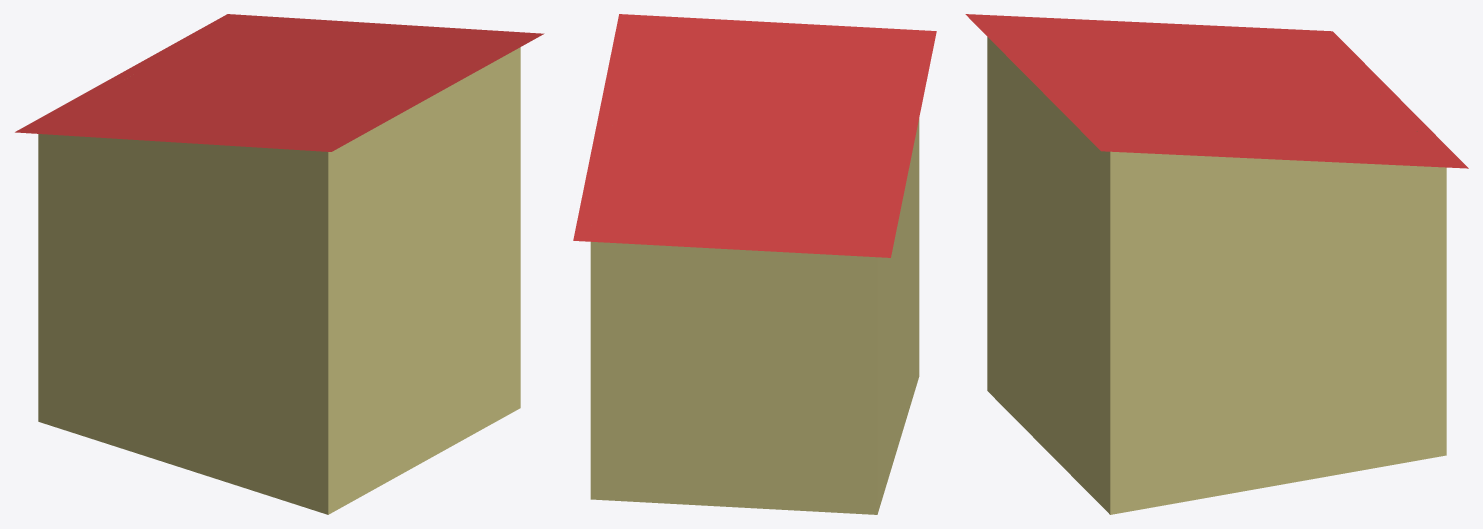
3 renders of one model, left to right at view 1: azimuth 30°, elevation 25°; view 2: azimuth 150°, elevation 25°; view 3: azimuth 270°, elevation 25°, orthographic. The views are drawn at different scales.
Size of the model in its own units: 6.99 by 7.36 by 6.01.
